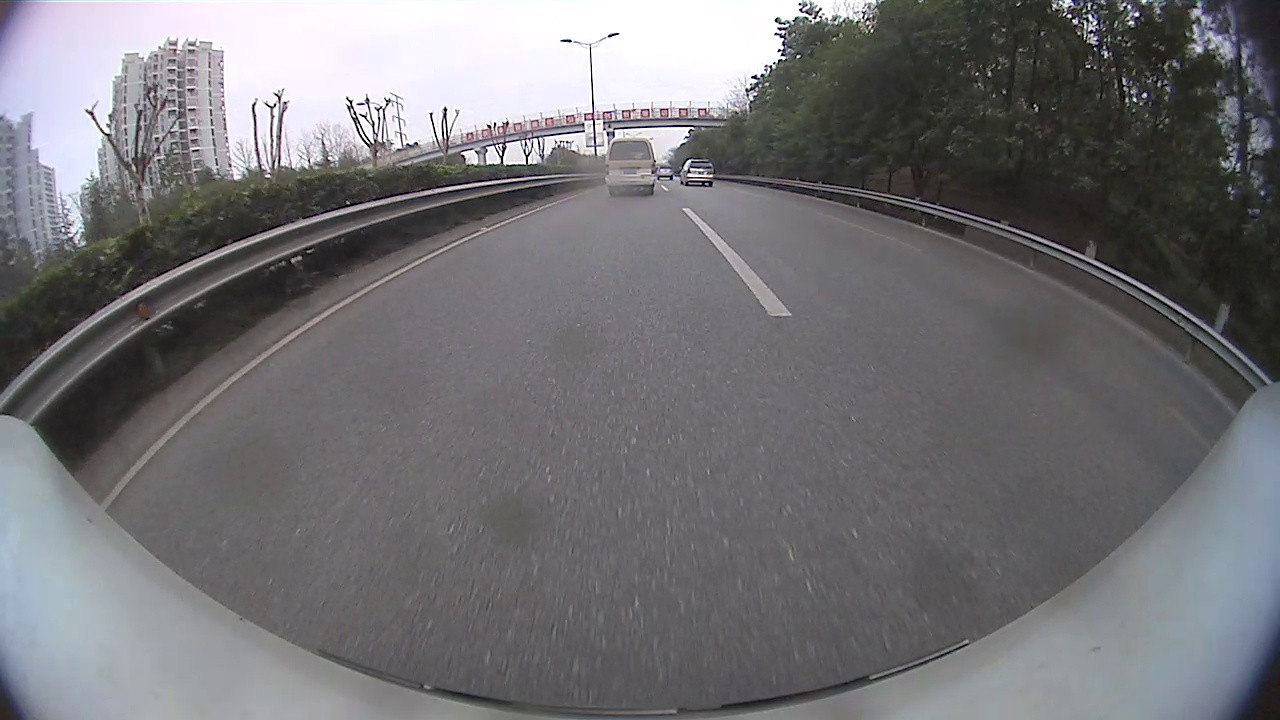car: (606, 137, 659, 196), (679, 159, 716, 187)
